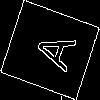A: (25, 24, 77, 73)
